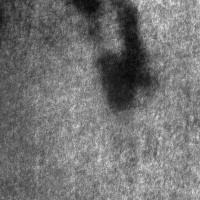patches: (0, 42, 139, 200), (97, 9, 152, 111), (69, 1, 103, 14)
